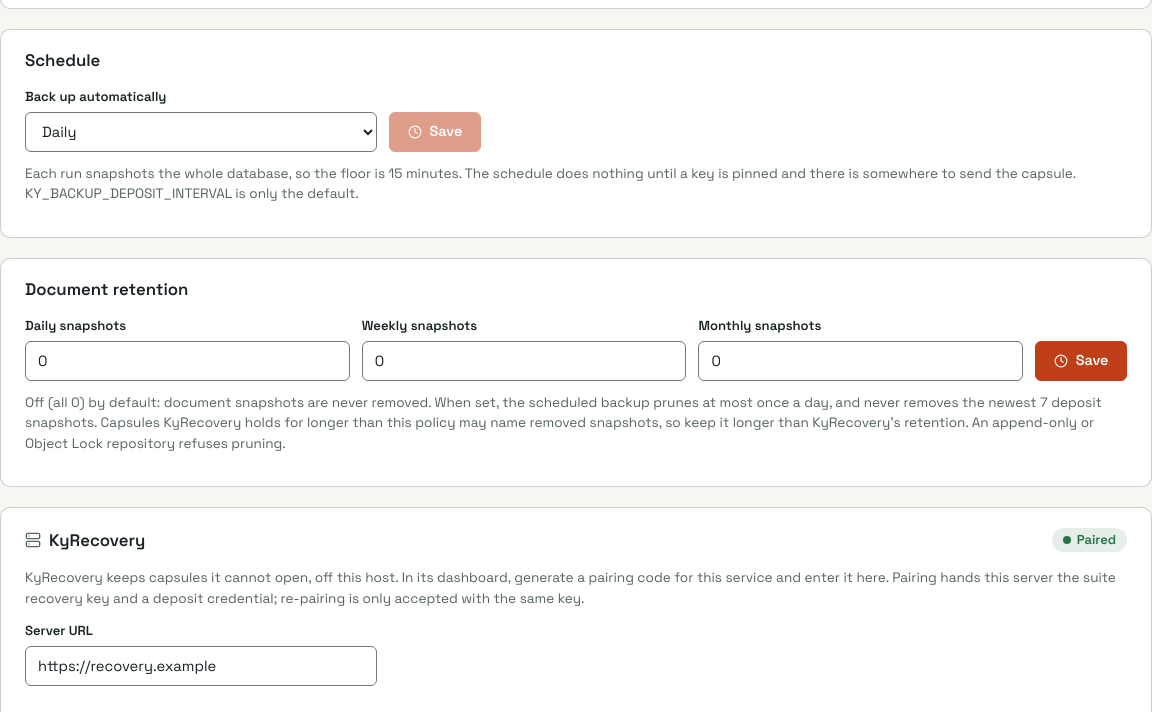
it: Backup › saves the document retention and shows the last prune
The width and height of the screenshot is (1152, 712).
(page scrolled)
Expected: the text "never removes the newest 7 deposit snapshots" is shown, [25, 393, 1127, 454]
Replace the text in the number field labelled "Daily snapshots" with "7": (187, 361) [25, 341, 350, 381]
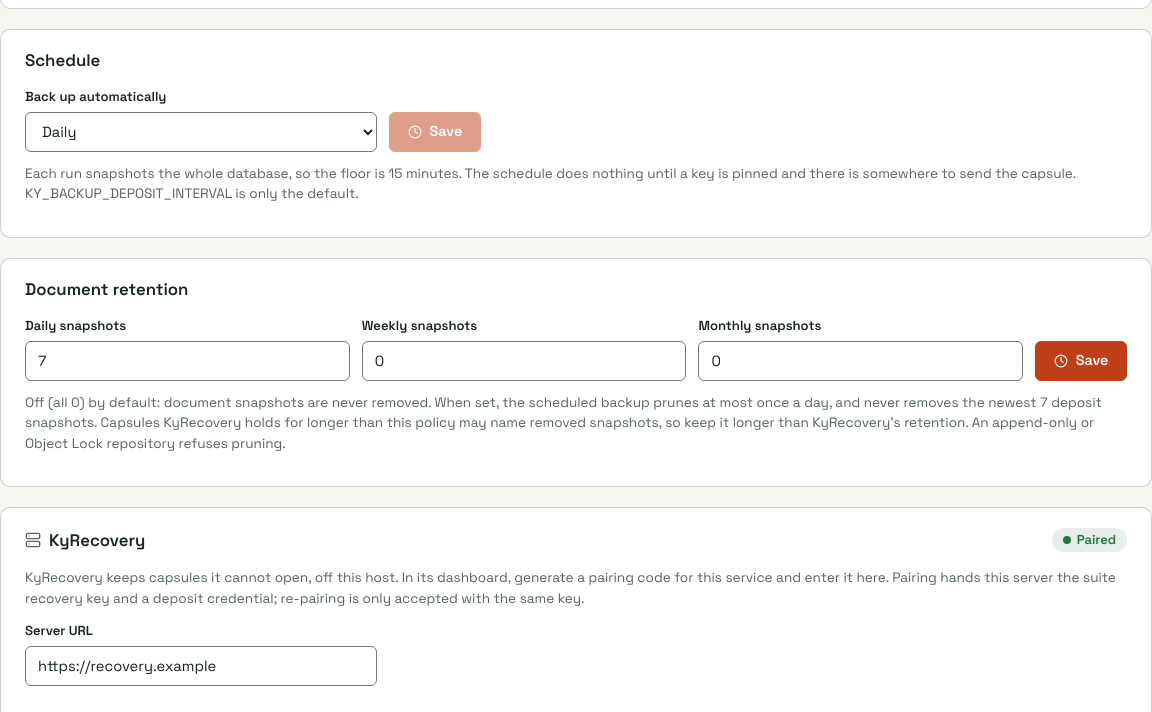
Replace the text in the number field labelled "Monthly snapshots" with "12": (861, 361) [698, 341, 1023, 381]
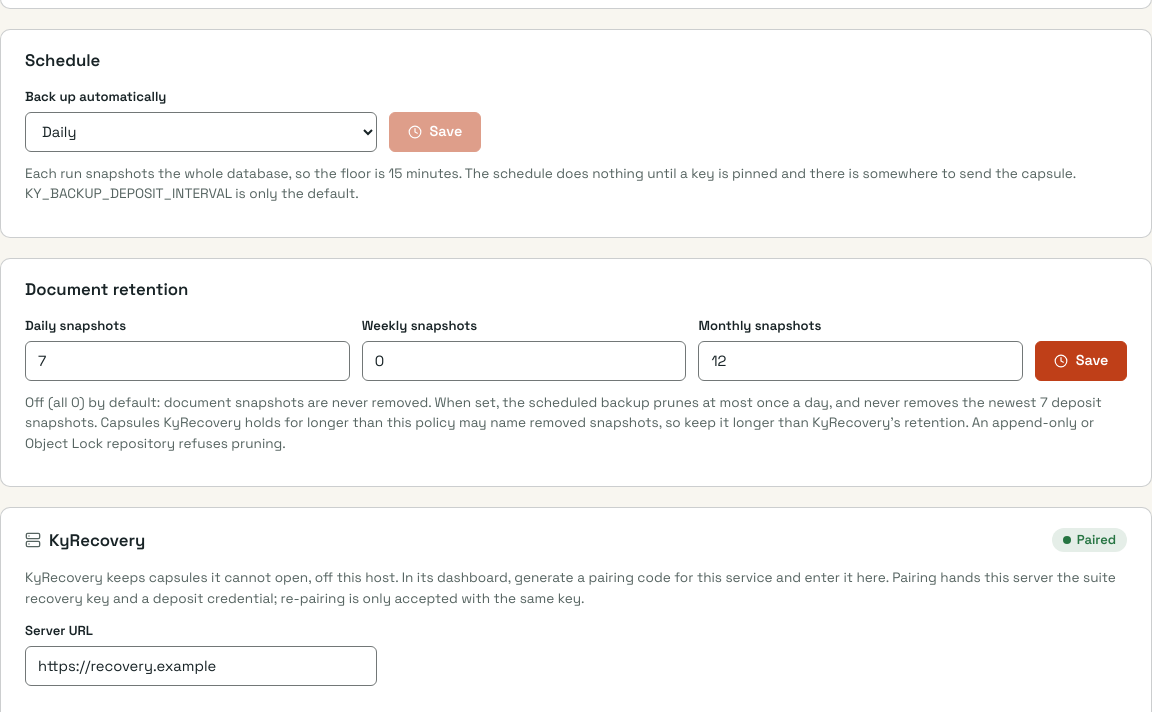
Click the button "Save" below "Monthly snapshots": (1081, 361) [1035, 341, 1127, 381]
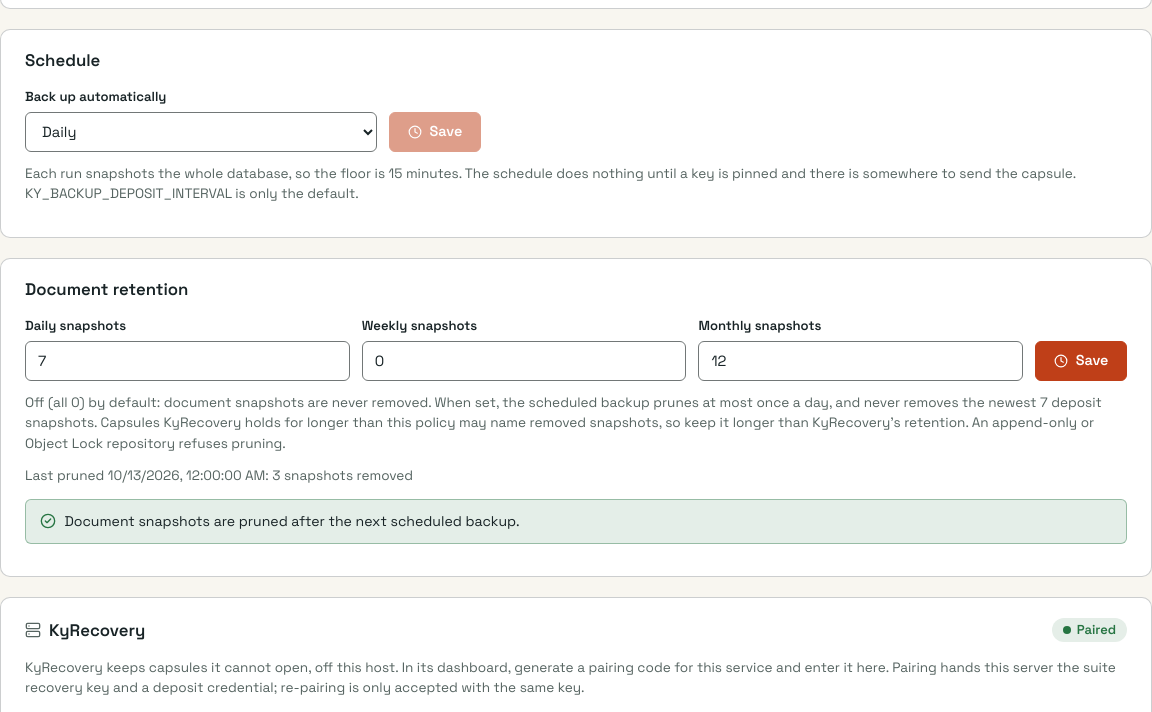
Result: the text "pruned after the next scheduled backup" is shown at [64, 512, 520, 530]
Result: the text "Last pruned 10/13/2026, 12:00:00 AM: 3 snapshots removed" is shown at [25, 467, 413, 484]
